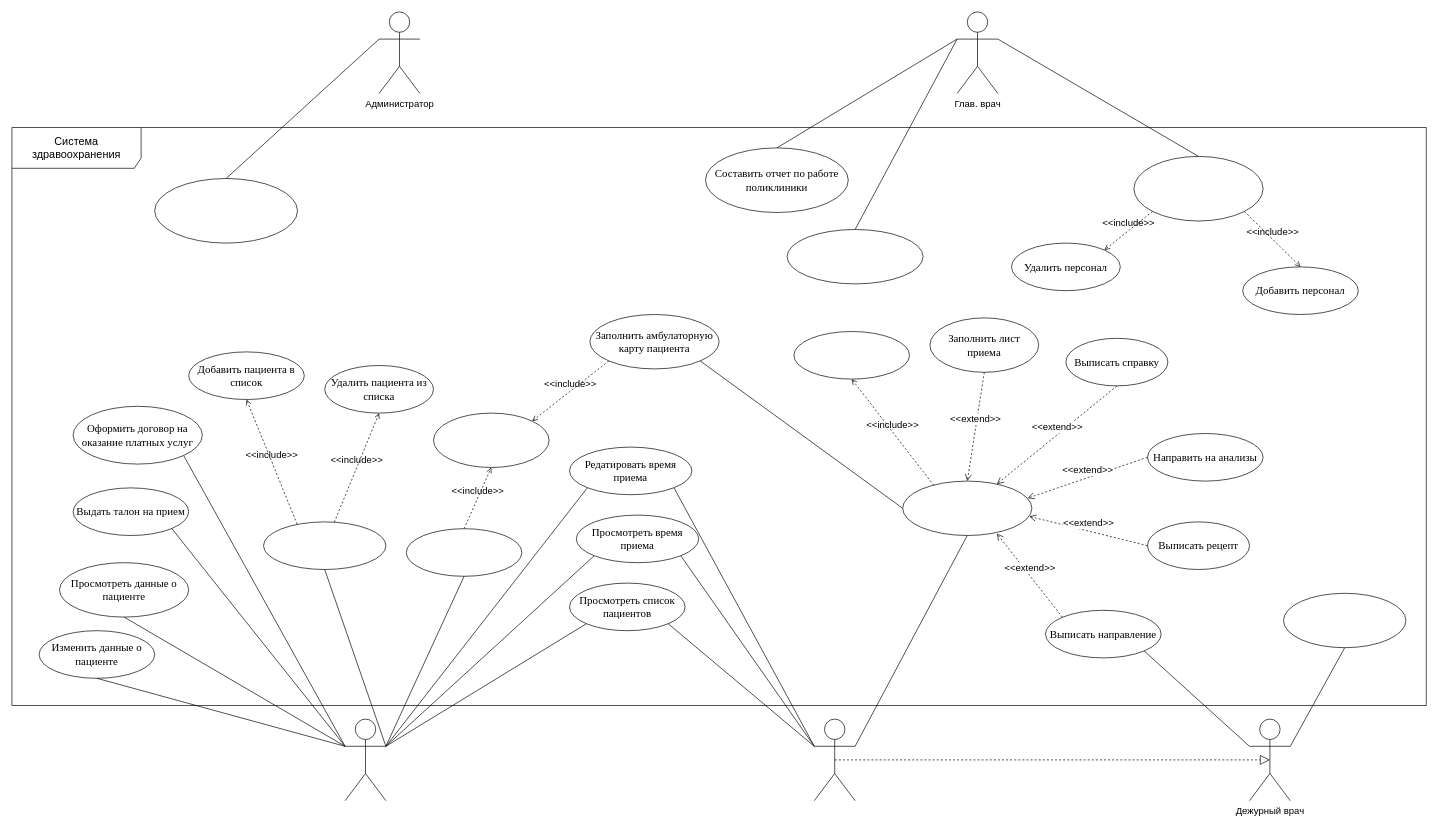
Some shapes in this 1438 by 829 pixel diagram are drawn without their labels. The centre of each missing label's shape, as x and y in pixels:
Внести данные о поликлинике: (x=226, y=210)
Врач: (x=834, y=759)
Занести данные пациента: (x=491, y=440)
Записать пациента на прием: (x=464, y=552)
Оказать неотлоложную помощь: (x=1344, y=620)
Осуществить прием пациента: (x=967, y=508)
Поставить диагноз: (x=851, y=355)
Просмотреть список персонала поликлиники: (x=854, y=256)
Регистратор: (x=365, y=759)
Редактировать список пациентов: (x=324, y=545)
Редактировать список персонала поликлиники: (x=1198, y=188)
